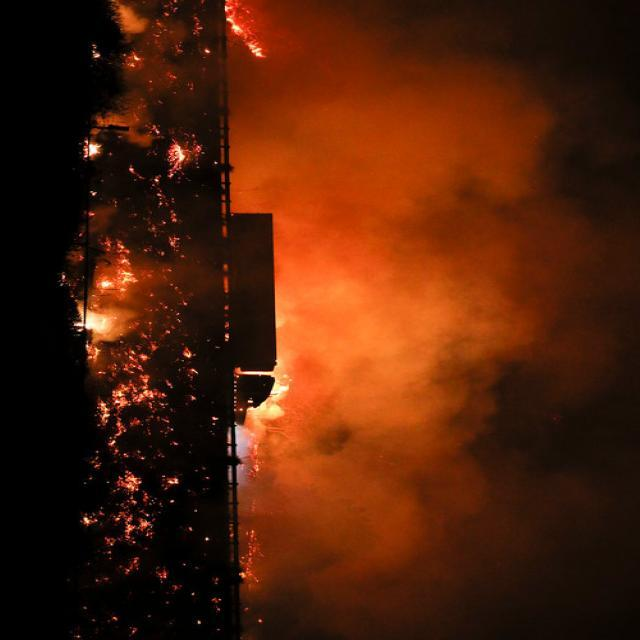Fire: (72, 249, 174, 592), (234, 358, 294, 586), (222, 2, 274, 62), (162, 133, 202, 184)
